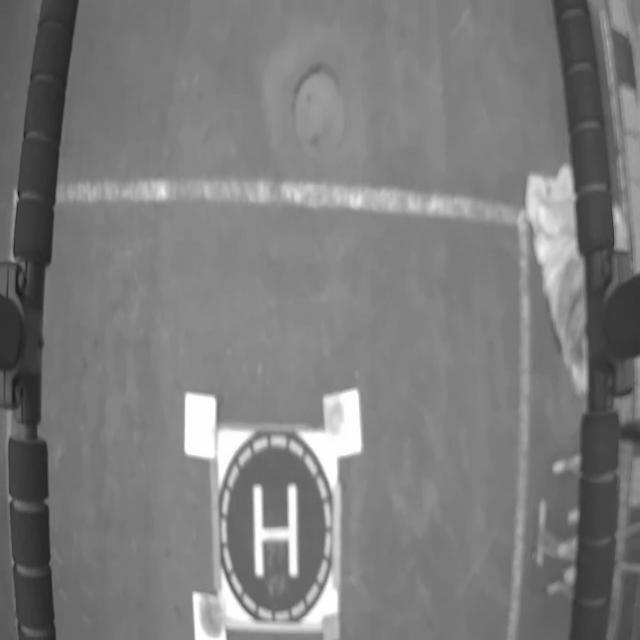Helipad: (253, 482, 300, 578)
